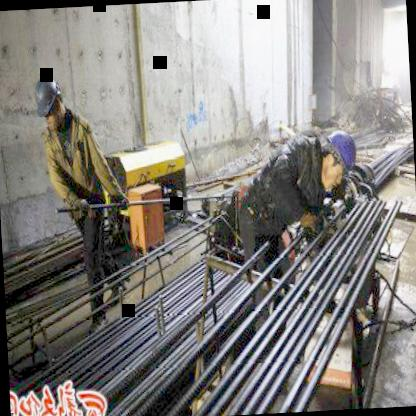helmet: (314, 126, 361, 190), (30, 69, 68, 127)
